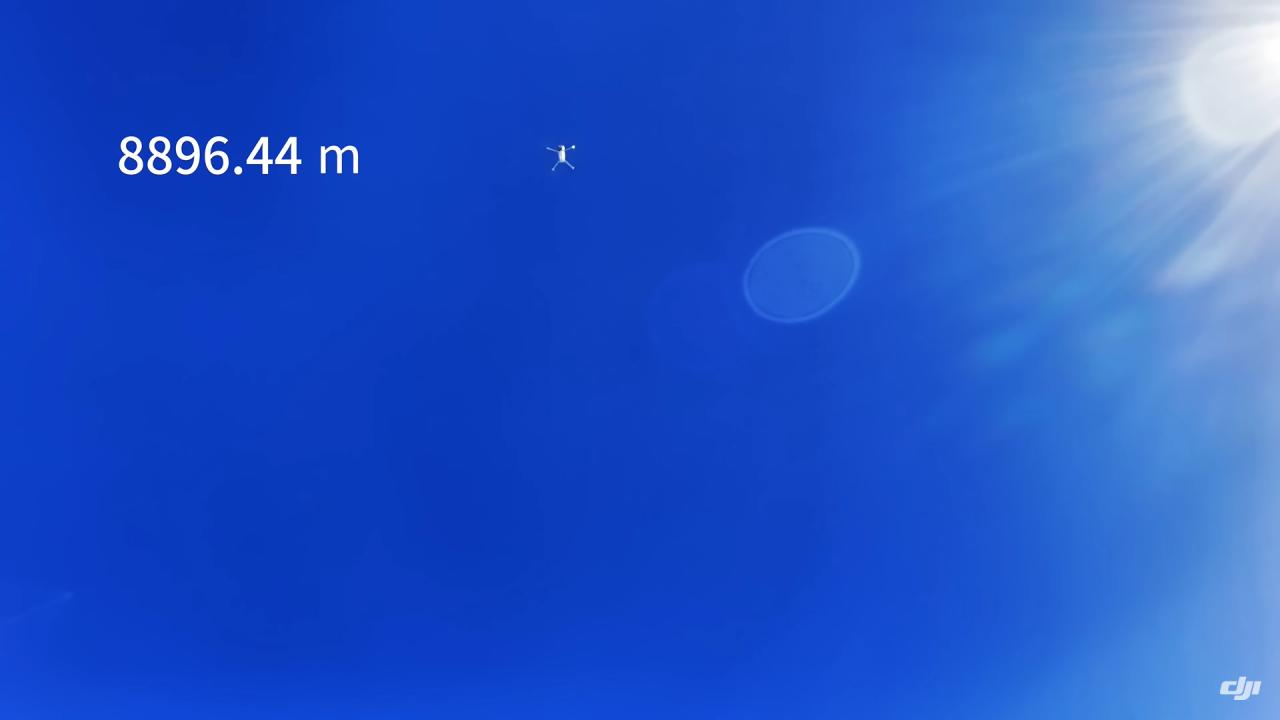Drone: (532, 137, 593, 178)
